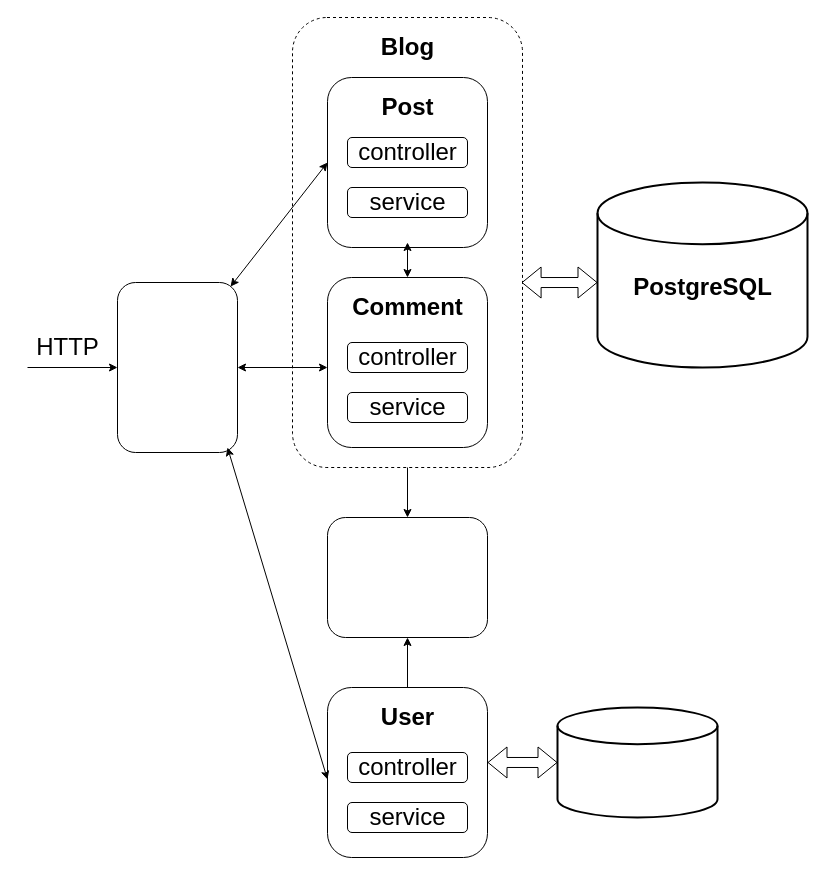
The diagram is 825 pixels wide and 875 high, and some of its shapes have lost their labels. The shapes that lost their labels are listed below. From the top down, each one's box as (x1, y1, x2, y2) in pixels, then its label:
(116, 282, 238, 452): BFF
(326, 516, 488, 638): Notifier
(556, 706, 718, 818): MongoDB
